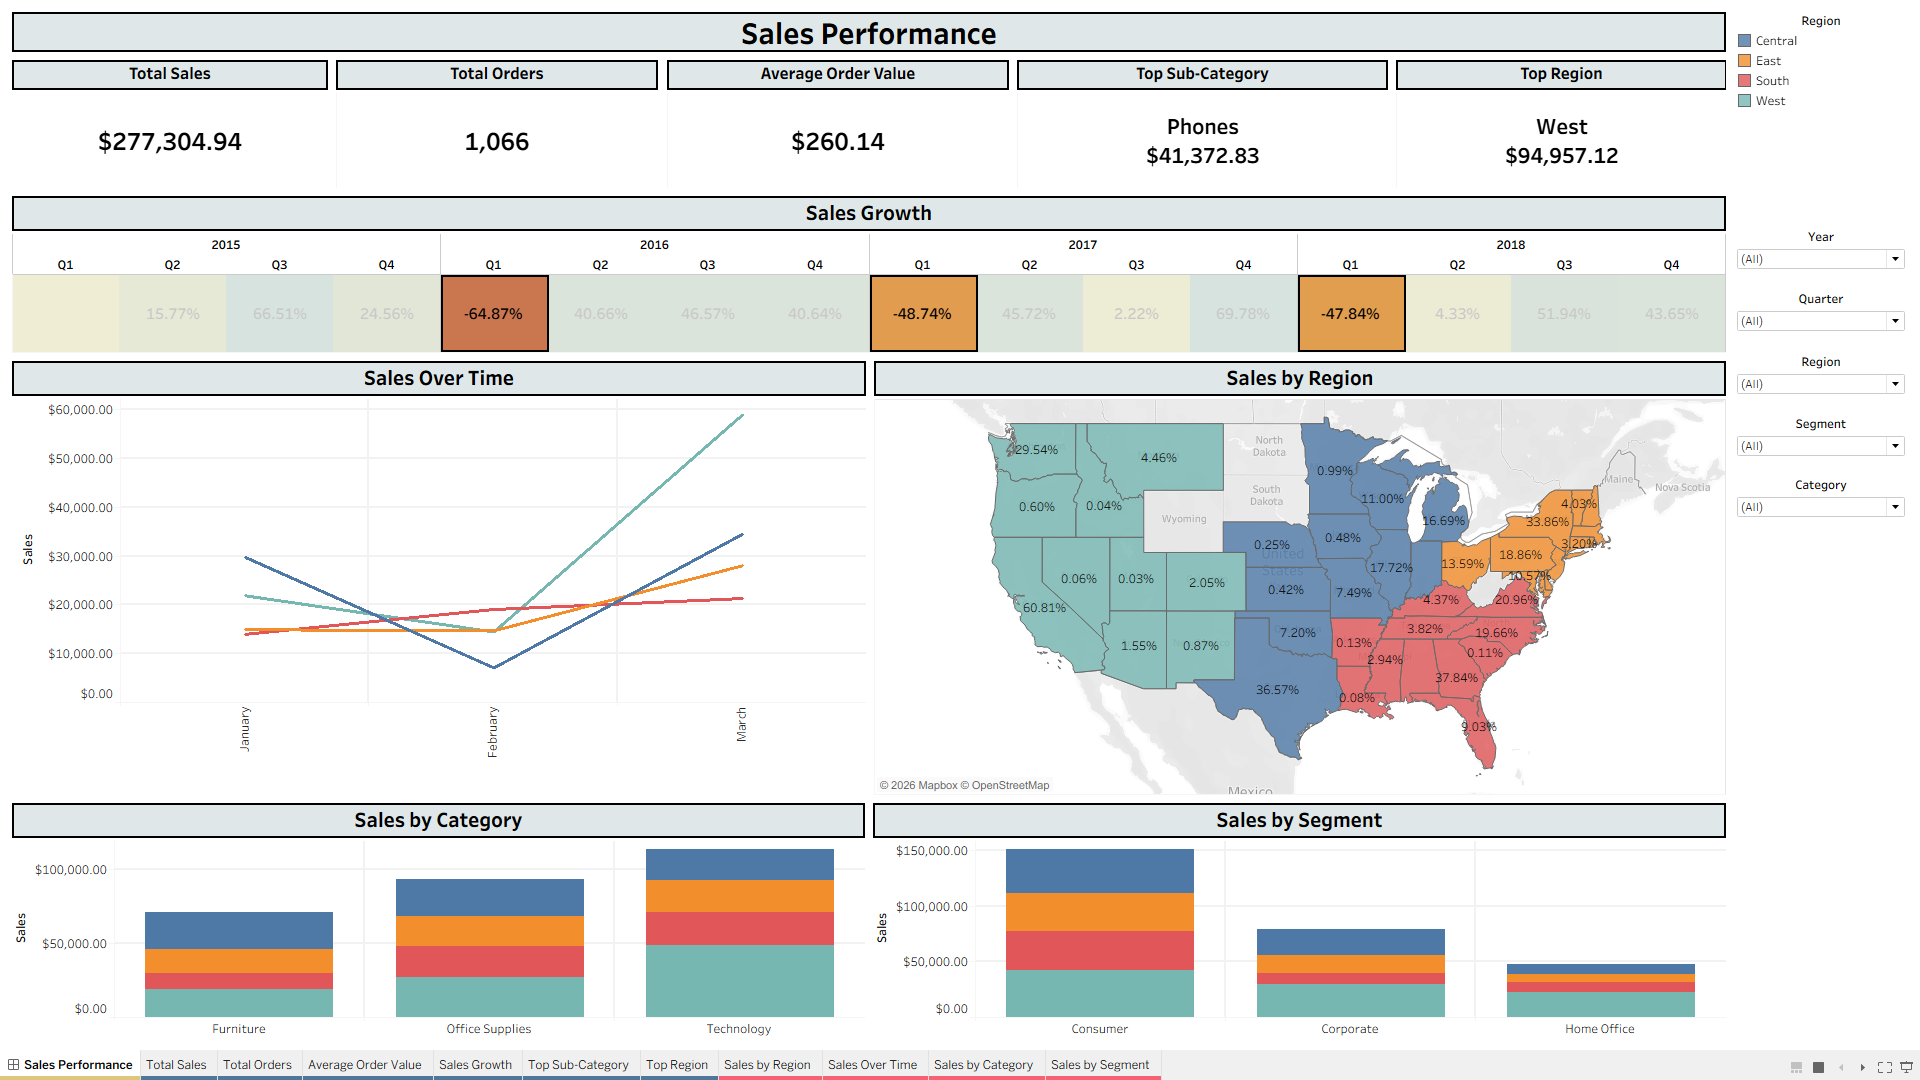

The page's visual inventory and layout, read from the dashboard file:
{"tool":"tableau","page":{"name":"Sales Performance","canvas":[1000,1000],"units":"permille","ordinal":0},"visuals":[{"type":"title","box":[4.3,9.8,896.9,58.5]},{"type":"legend","title":"Sales by Region","param":"[federated.05i0j671lpl5bh1a86nyh1atq0u8].[none:Region:nk]","box":[901.1,9.8,94.6,205.2]},{"type":"worksheet","title":"Total Sales","mark":"Automatic","box":[4.3,68.3,169,127.6]},{"type":"worksheet","title":"Total Orders","mark":"Automatic","box":[173.2,68.3,172,127.6]},{"type":"worksheet","title":"Average Order Value","mark":"Automatic","box":[345.2,68.3,182.4,127.6]},{"type":"worksheet","title":"Top Sub-Category","mark":"Automatic","box":[527.6,68.3,197.2,127.6]},{"type":"worksheet","title":"Top Region","mark":"Automatic","box":[724.8,68.3,176.3,127.6]},{"type":"worksheet","title":"Sales Growth","mark":"Square","cols":["Order Date","Order Date"],"box":[4.3,195.9,896.9,154.1]},{"type":"filter","title":"Sales by Region","param":"[federated.05i0j671lpl5bh1a86nyh1atq0u8].[yr:Order Date:ok]","box":[901.1,214.9,94.6,59]},{"type":"filter","title":"Sales by Region","param":"[federated.05i0j671lpl5bh1a86nyh1atq0u8].[qr:Order Date:ok]","box":[901.1,273.9,94.6,59]},{"type":"filter","title":"Sales by Region","param":"[federated.05i0j671lpl5bh1a86nyh1atq0u8].[none:Region:nk]","box":[901.1,332.9,94.6,75.6]},{"type":"worksheet","title":"Sales Over Time","mark":"Automatic","rows":["Sales"],"cols":["Order Date"],"box":[4.3,350,448.8,413.3]},{"type":"worksheet","title":"Sales by Region","mark":"Multipolygon","box":[453.1,350,448,413.3]},{"type":"filter","title":"Sales by Region","param":"[federated.05i0j671lpl5bh1a86nyh1atq0u8].[none:Segment:nk]","box":[901.1,408.5,94.6,74.4]},{"type":"filter","title":"Sales by Region","param":"[federated.05i0j671lpl5bh1a86nyh1atq0u8].[none:Category:nk]","box":[901.1,482.9,94.6,76.8]},{"type":"blank","box":[901.1,559.8,94.6,430.5]},{"type":"worksheet","title":"Sales by Category","mark":"Automatic","rows":["Sales"],"cols":["Category"],"box":[4.3,763.3,448.3,227]},{"type":"worksheet","title":"Sales by Segment","mark":"Automatic","rows":["Sales"],"cols":["Segment"],"box":[452.6,763.3,448.5,227]}]}

Visuals, with their boxes on the dashboard's canvas, which has no fixed pixel size, in thousandths of its width and height (x1, y1, x2, y2). These are canvas units, not pixel positions in the 1920x1080 screenshot, which may show the page scaled, cropped or inside an application window:
title: detection(4, 10, 901, 68)
"Sales by Region" legend: detection(901, 10, 996, 215)
"Total Sales" worksheet: detection(4, 68, 173, 196)
"Total Orders" worksheet: detection(173, 68, 345, 196)
"Average Order Value" worksheet: detection(345, 68, 528, 196)
"Top Sub-Category" worksheet: detection(528, 68, 725, 196)
"Top Region" worksheet: detection(725, 68, 901, 196)
"Sales Growth" worksheet (Square marks): detection(4, 196, 901, 350)
"Sales by Region" filter: detection(901, 215, 996, 274)
"Sales by Region" filter: detection(901, 274, 996, 333)
"Sales by Region" filter: detection(901, 333, 996, 408)
"Sales Over Time" worksheet: detection(4, 350, 453, 763)
"Sales by Region" worksheet (Multipolygon marks): detection(453, 350, 901, 763)
"Sales by Region" filter: detection(901, 408, 996, 483)
"Sales by Region" filter: detection(901, 483, 996, 560)
blank: detection(901, 560, 996, 990)
"Sales by Category" worksheet: detection(4, 763, 453, 990)
"Sales by Segment" worksheet: detection(453, 763, 901, 990)
